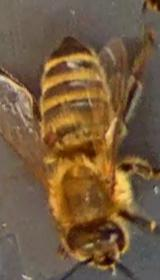varroa_mite: (38, 127, 61, 149)
